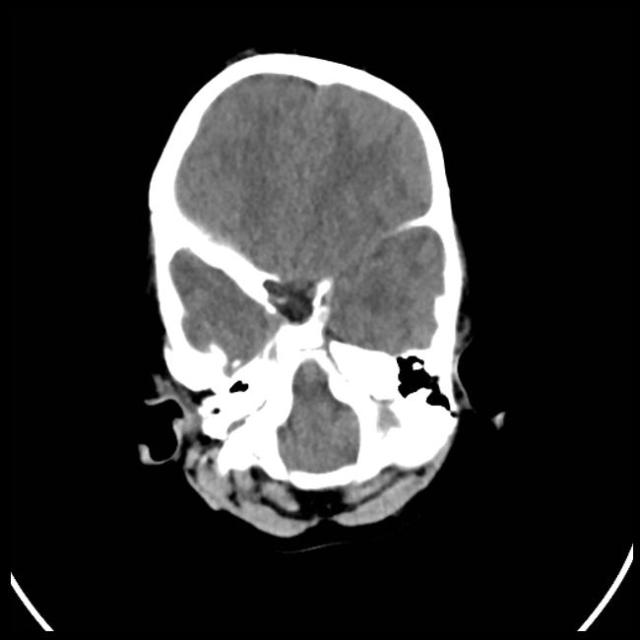lesion: (133, 48, 484, 543)
